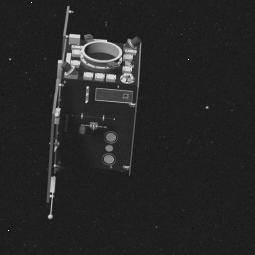proba_2: (28, 16, 159, 224)
